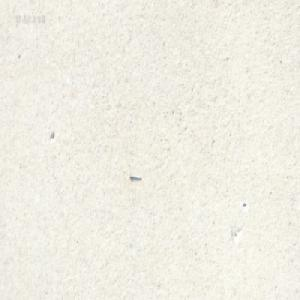Nail: (128, 172, 141, 180)
